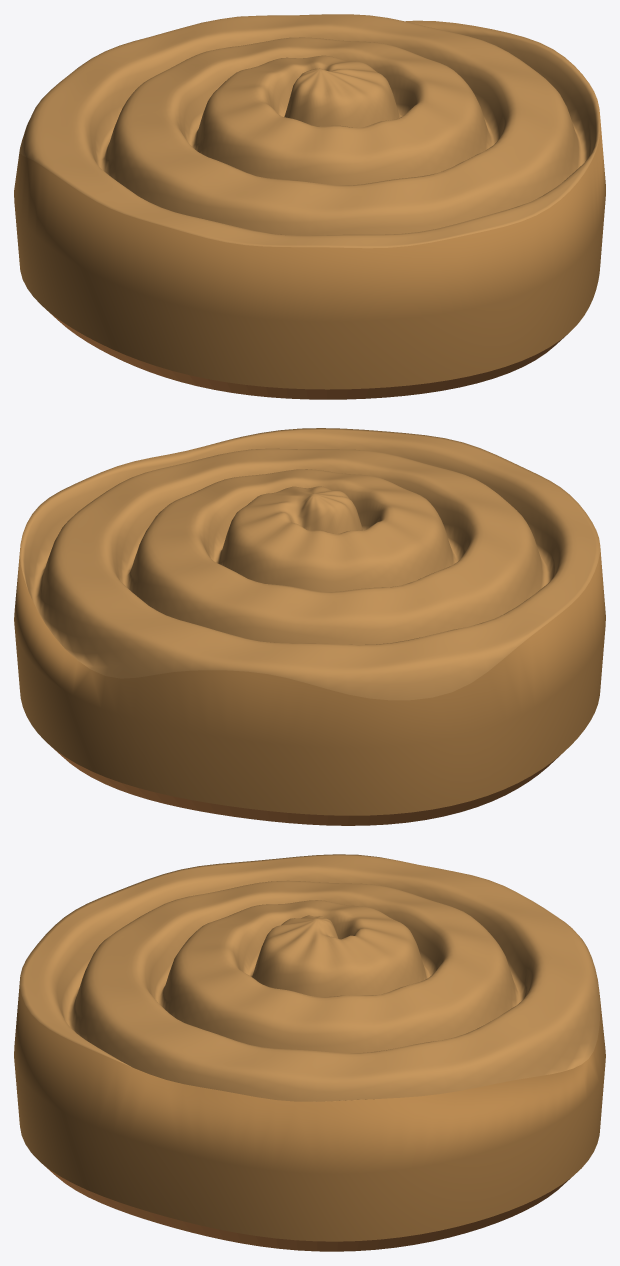
3 renders of one model, top to bottom at view 1: azimuth 30°, elevation 25°; view 2: azimuth 150°, elevation 25°; view 3: azimuth 270°, elevation 25°, orthographic.
Parts seen in each view (by area): view 1: NEW328_CinnamonRoll_LOD1; view 2: NEW328_CinnamonRoll_LOD1; view 3: NEW328_CinnamonRoll_LOD1.
Part boxes in pixels (x1,y1,x2,y2): NEW328_CinnamonRoll_LOD1: (14, 14, 605, 399); NEW328_CinnamonRoll_LOD1: (14, 428, 605, 825); NEW328_CinnamonRoll_LOD1: (14, 854, 605, 1251).
Size of the model in its own units: 0.0921 by 0.037 by 0.092.
